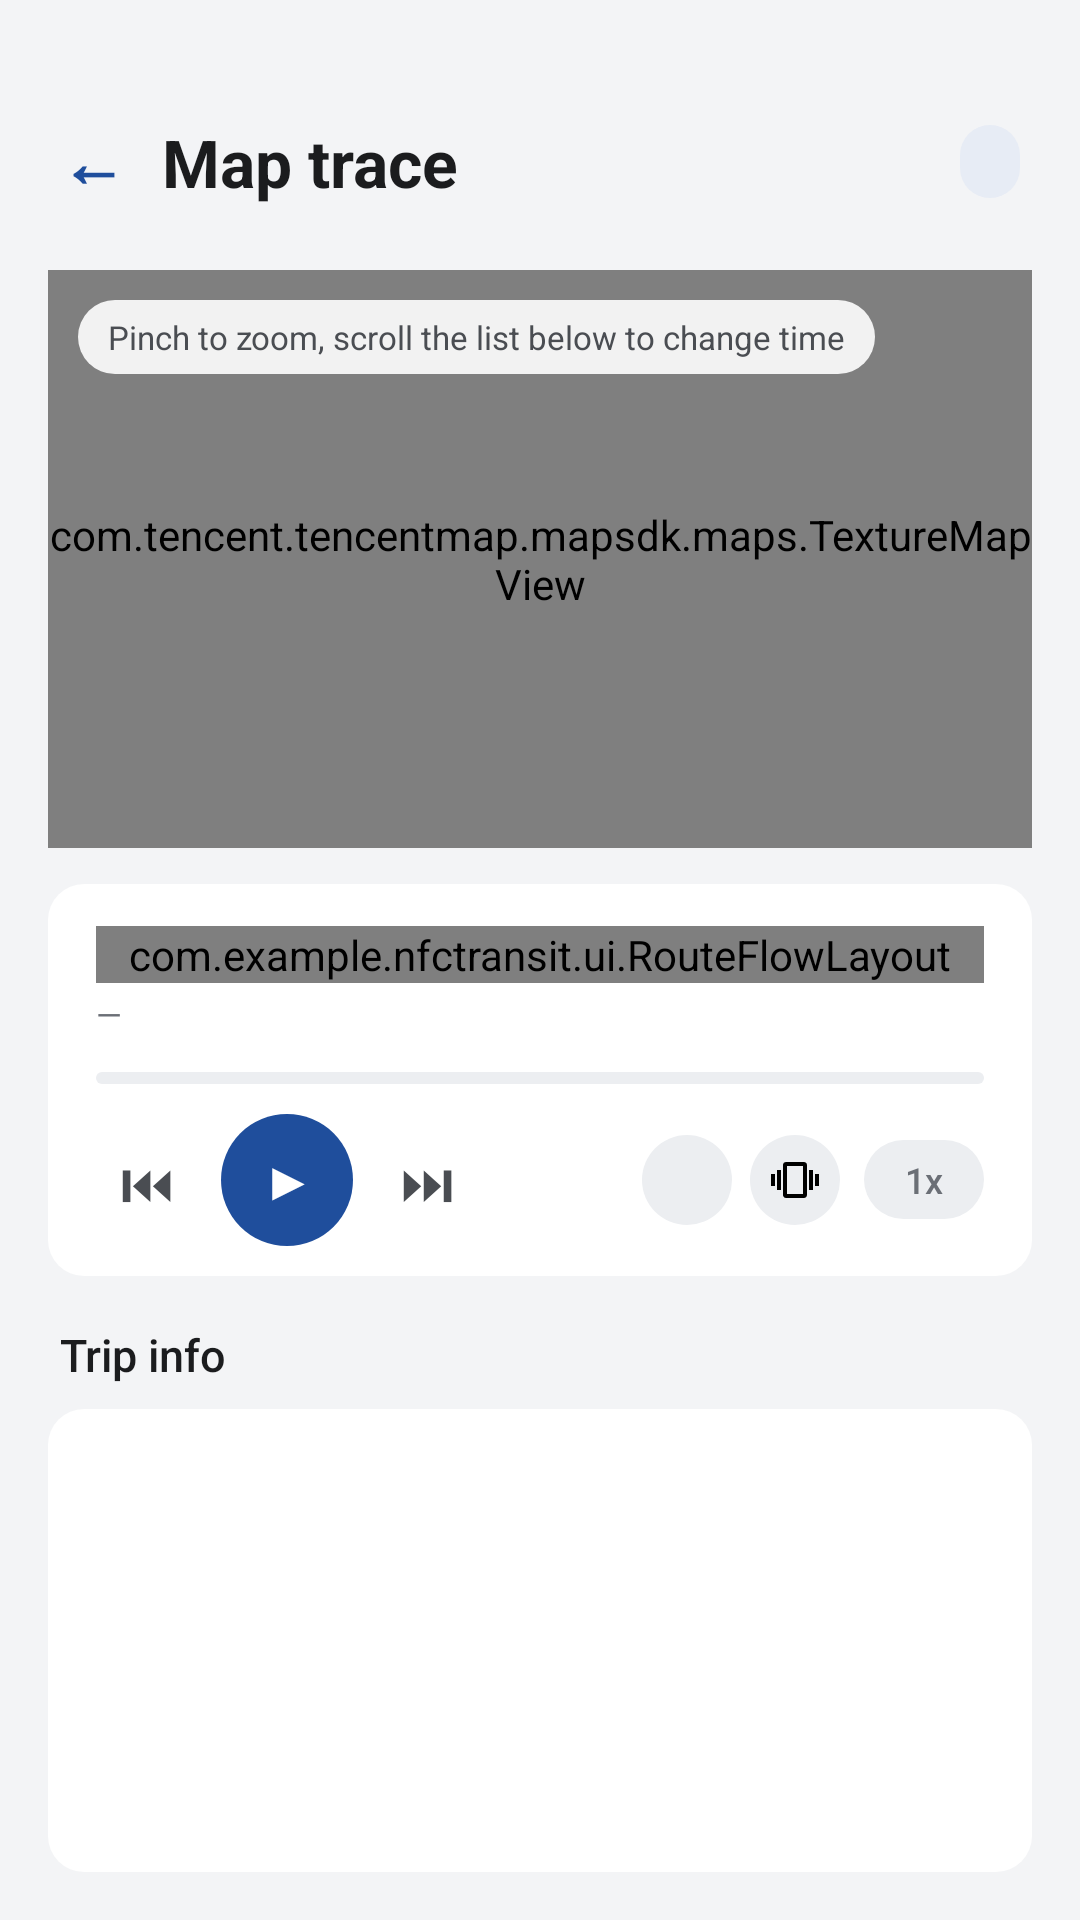

Screen size 1080 × 1920. Icon name, then its box in pixels as (x1,y1,x2,y2):
Playback haptics: (750,1135,840,1225)
